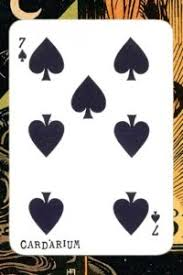seven of spades: (9, 19, 175, 254)
